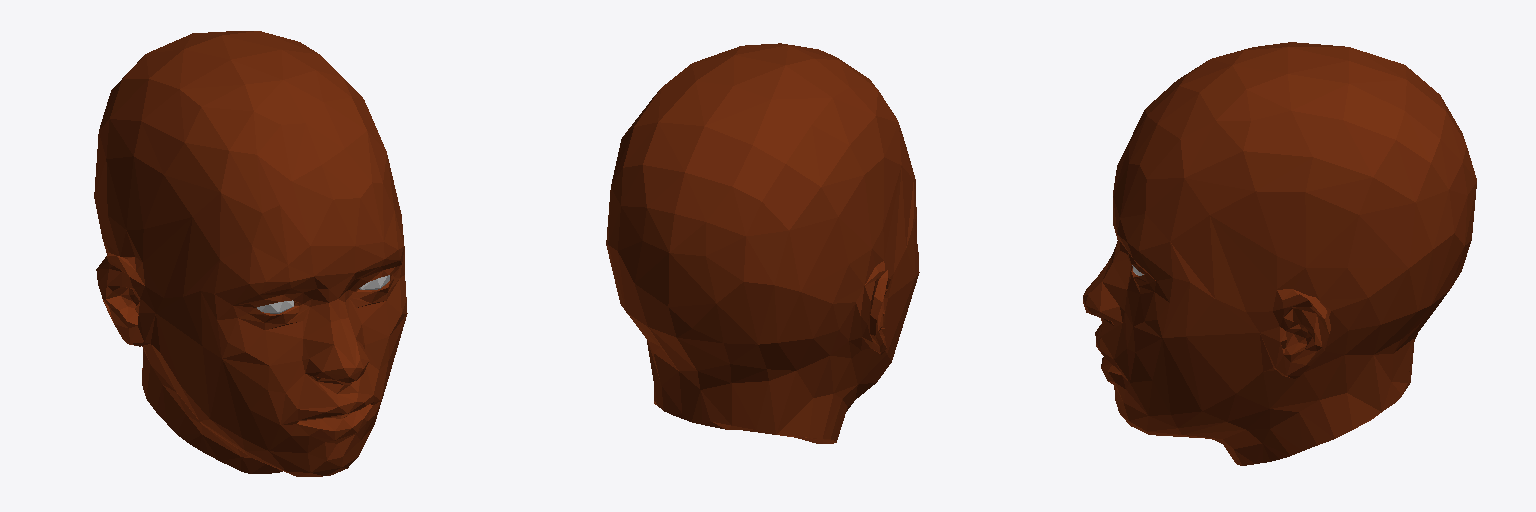
Rendered from humanheadmin.obj.
The picture shows the model from 3 angles: view 1: azimuth 30°, elevation 25°; view 2: azimuth 150°, elevation 25°; view 3: azimuth 270°, elevation 25°; orthographic projection.
Visible parts, largest first — view 1: humanforproj2-low_poly; view 2: humanforproj2-low_poly; view 3: humanforproj2-low_poly.
Boxes of the visible parts, <box> form: humanforproj2-low_poly: <box>94,31,407,476</box>; humanforproj2-low_poly: <box>606,43,919,443</box>; humanforproj2-low_poly: <box>1083,42,1476,465</box>.
Bounding box in the file's own units: 0.1671 × 0.231 × 0.208.